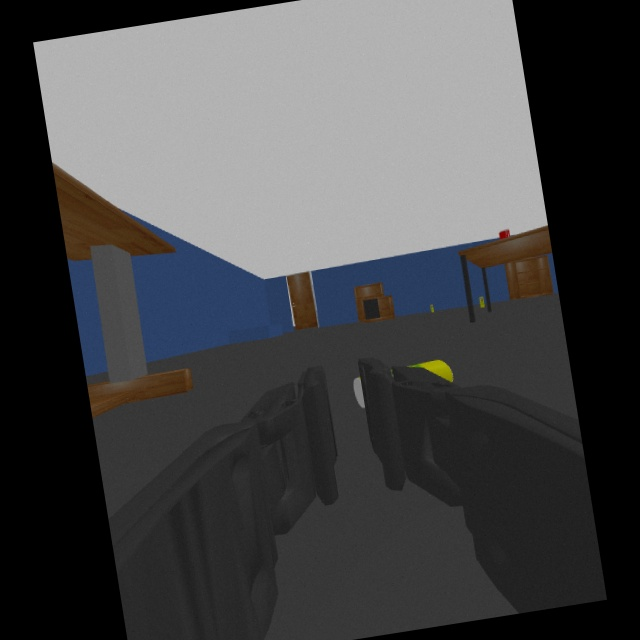chipsdose_gelb: (354, 360, 454, 410), (430, 302, 435, 312), (480, 297, 484, 308)
